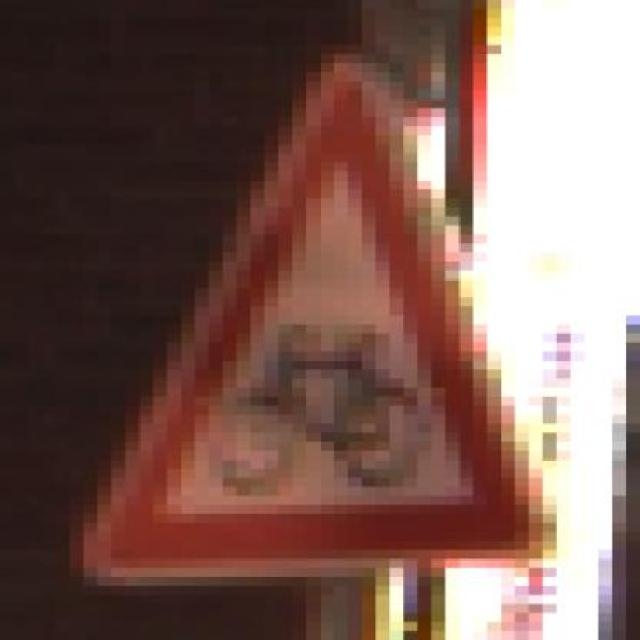CYCLE ROUTE AHEAD WARNING: (68, 53, 569, 595)
